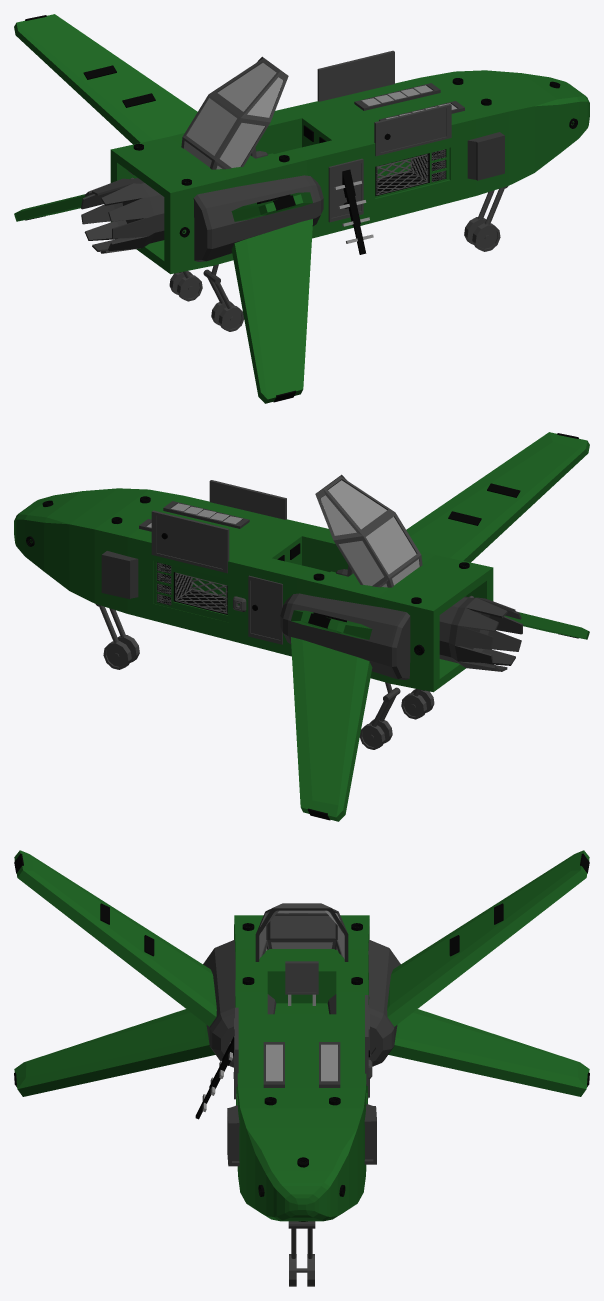
File: FighterGen7_green_open.glb
3 views of the same model, one above another, from view 1: azimuth 30°, elevation 25°; view 2: azimuth 150°, elevation 25°; view 3: azimuth 270°, elevation 25° (orthographic). The views are drawn at different scales.
Visible parts, largest first — view 1: Body, Cube.003, Cylinder, Cylinder.002, Cube.116, Cube.114, Cube.099, Cube.043, Cube.104, Cube.120, Cube.102, Cube.105 (+7 smaller); view 2: Body, Cube.003, Cylinder, Cylinder.002, Cube.114, Cube.099, Cube.115, Cube.116, Cube.043, Cube.104, Cube.102, Cube.105 (+7 smaller); view 3: Cube.003, Body, Cylinder, Cube.099, Cube.104, Cube.043, Cube.094, Cube.108.
Boxes of the visible parts, bbox=[...] form: Body: bbox=[110, 70, 589, 274]; Cube.003: bbox=[14, 14, 312, 403]; Cylinder: bbox=[193, 151, 323, 261]; Cylinder.002: bbox=[81, 178, 164, 253]; Cube.116: bbox=[374, 104, 451, 156]; Cube.114: bbox=[317, 50, 394, 101]; Cube.099: bbox=[181, 56, 288, 169]; Cube.043: bbox=[467, 132, 504, 180]; Cube.104: bbox=[186, 98, 236, 155]; Cube.120: bbox=[328, 158, 363, 222]; Cube.102: bbox=[217, 63, 276, 111]; Cube.105: bbox=[219, 123, 264, 167]; Body: bbox=[14, 488, 493, 692]; Cube.003: bbox=[291, 432, 589, 821]; Cylinder: bbox=[280, 569, 410, 679]; Cylinder.002: bbox=[439, 596, 522, 671]; Cube.114: bbox=[151, 510, 229, 573]; Cube.099: bbox=[315, 474, 422, 587]; Cube.115: bbox=[248, 575, 282, 644]; Cube.116: bbox=[209, 480, 286, 519]; Cube.043: bbox=[101, 551, 138, 599]; Cube.104: bbox=[366, 516, 416, 574]; Cube.102: bbox=[328, 480, 386, 529]; Cube.105: bbox=[339, 541, 384, 585]; Cube.003: bbox=[14, 850, 589, 1096]; Body: bbox=[234, 915, 369, 1221]; Cylinder: bbox=[203, 939, 400, 1067]; Cube.099: bbox=[255, 903, 348, 961]; Cube.104: bbox=[270, 915, 335, 938]; Cube.043: bbox=[227, 1104, 376, 1166]; Cube.094: bbox=[285, 961, 318, 994]; Cube.108: bbox=[263, 1042, 340, 1087].
Size of the model in its own units: 18.67 by 8.55 by 16.83.
